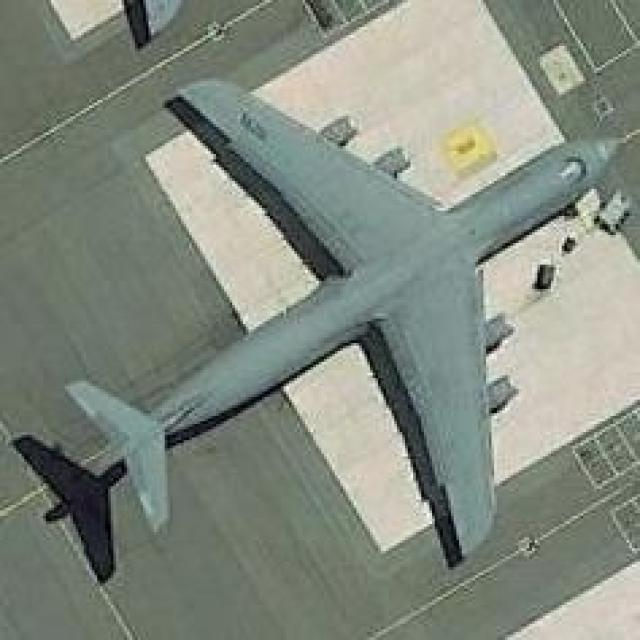C-5_TopDown: (57, 70, 637, 570)
